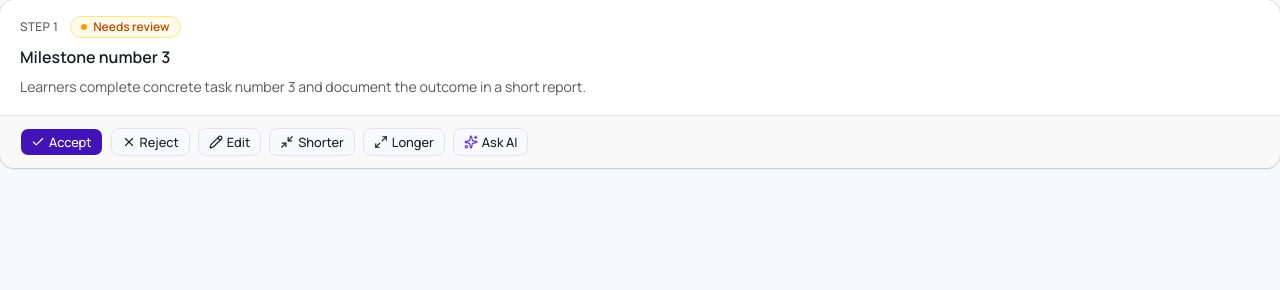
MilestoneCard › validates edits before saving them
Click the button "Edit". click: (229, 142)
box: [198,128,261,156]
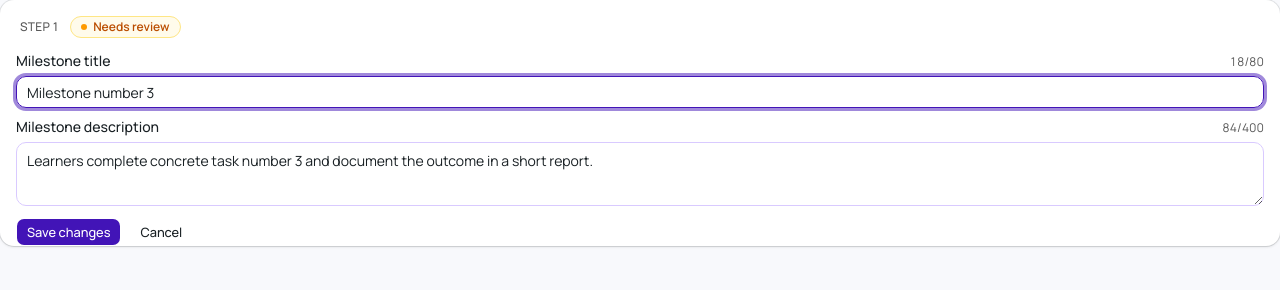
Replace the text in the text box labelled "Milestone description" with "Too short.". click: (640, 174)
box: [16,142,1264,206]
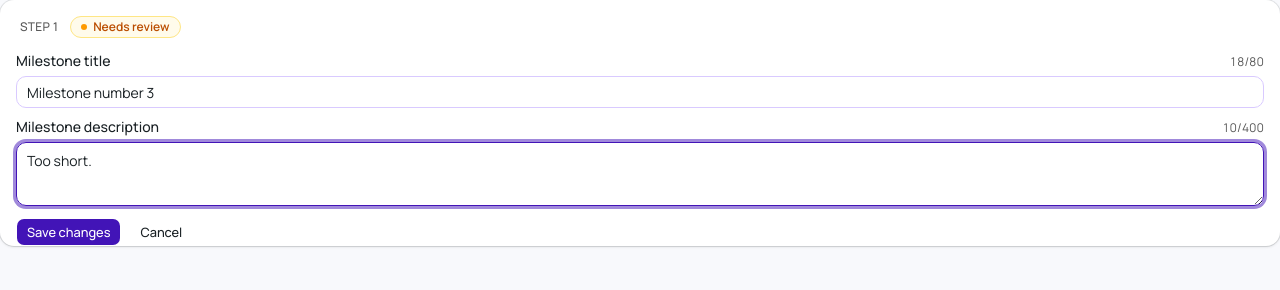
Click the button "Save changes". click: (69, 232)
box: [16,218,121,246]
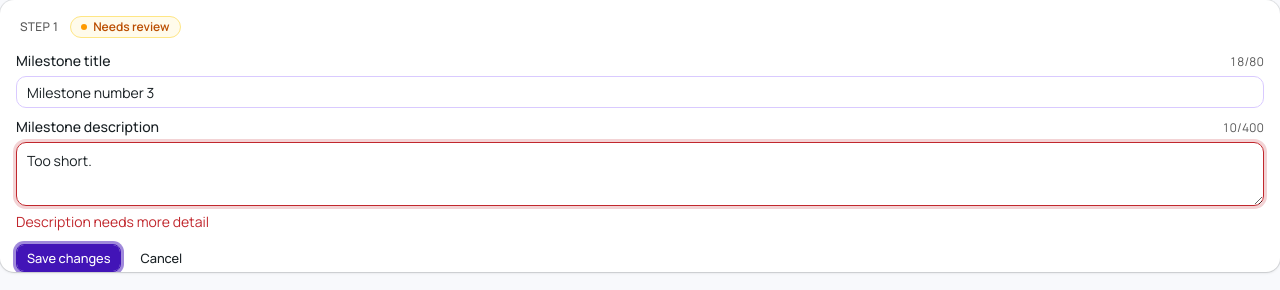
Expected: the text "Description needs more detail" is shown, [16,212,209,231]
